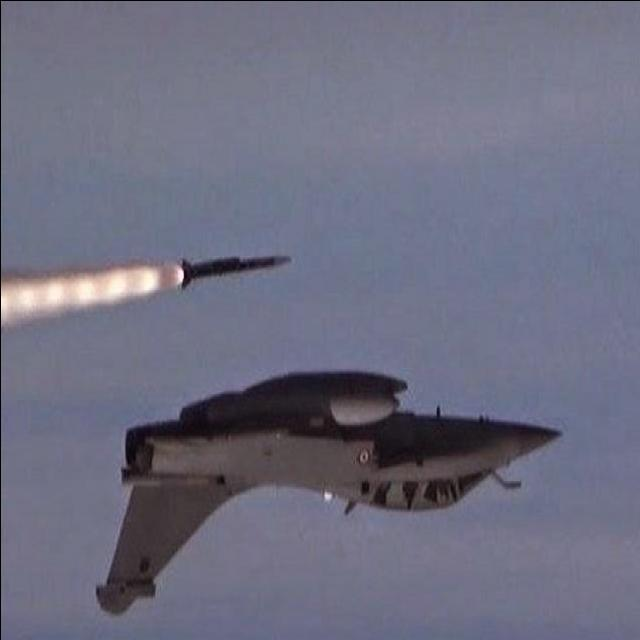missile: (184, 368, 416, 446), (174, 247, 306, 292)
